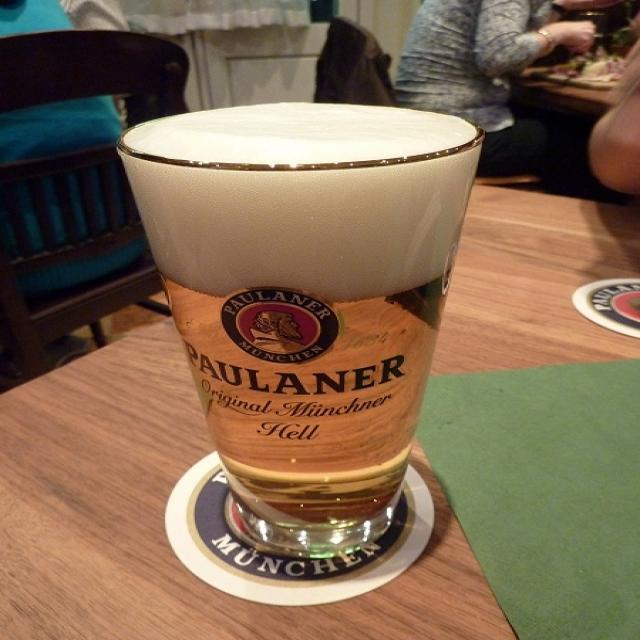paulaner: (219, 287, 341, 365)
